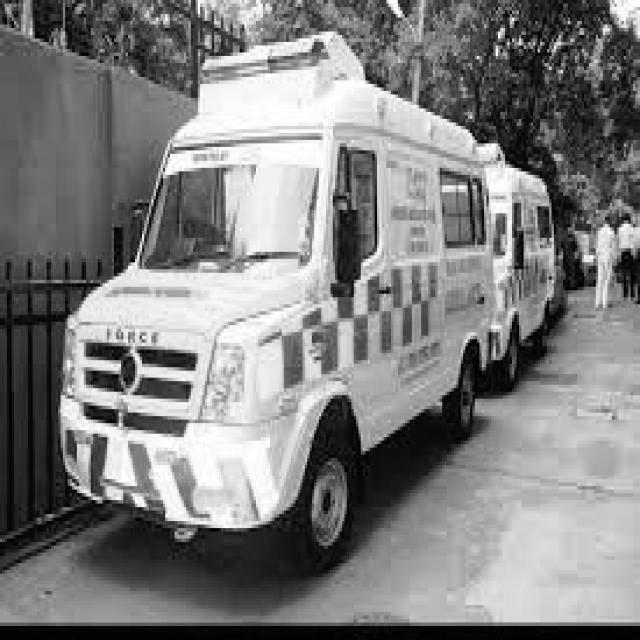LCV: (61, 40, 364, 529)
